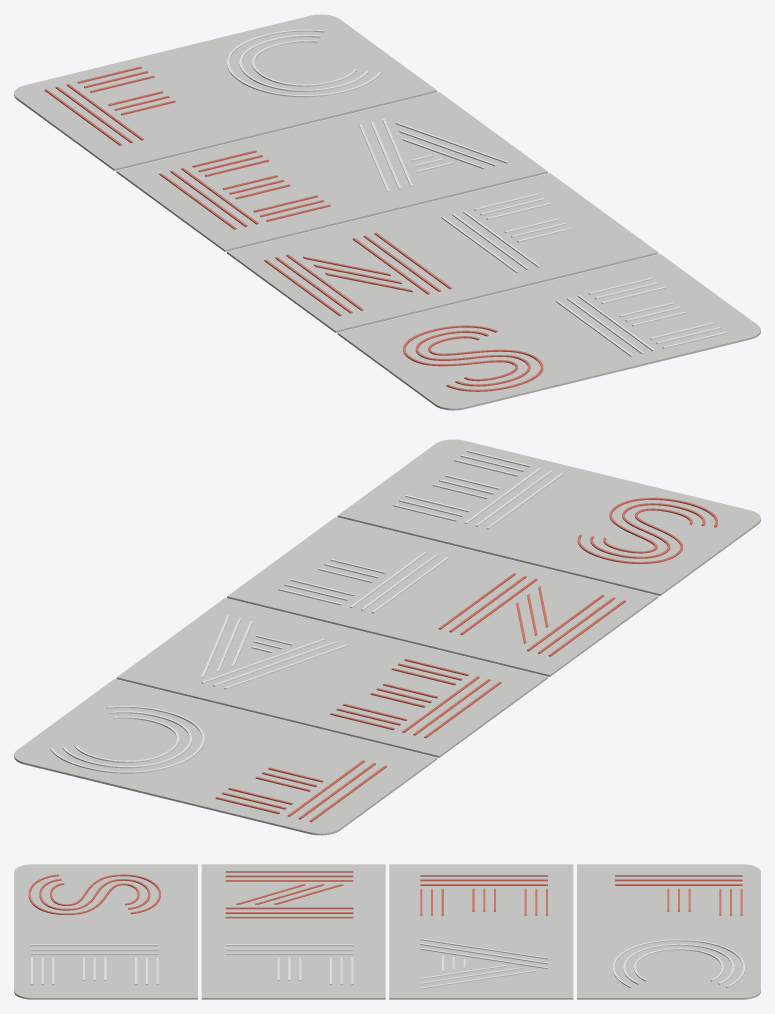
The model's file is sign.glb.
3 views of the same model, one above another, from view 1: azimuth 30°, elevation 25°; view 2: azimuth 150°, elevation 25°; view 3: azimuth 270°, elevation 25° (orthographic). The views are drawn at different scales.
Visible parts, largest first — view 1: Body73, Body1, Body72, Body74, Body84, Body125, Body130, Body122, Body104; view 2: Body73, Body72, Body1, Body74, Body84, Body122, Body125, Body130, Body104; view 3: Body73, Body1, Body72, Body74, Body84, Body125, Body122, Body130, Body104, Body88, Body120, Body139 (+21 smaller).
Part boxes in pixels (<box>): Body73: <box>14,14,437,170</box>; Body1: <box>116,92,547,251</box>; Body72: <box>227,173,658,332</box>; Body74: <box>337,254,760,410</box>; Body84: <box>227,29,381,97</box>; Body125: <box>428,336,543,391</box>; Body130: <box>403,325,517,381</box>; Body122: <box>415,330,530,386</box>; Body104: <box>239,34,369,91</box>; Body73: <box>14,679,437,835</box>; Body72: <box>227,517,658,676</box>; Body1: <box>116,598,547,757</box>; Body74: <box>337,439,760,595</box>; Body84: <box>50,706,204,773</box>; Body122: <box>590,503,705,558</box>; Body125: <box>603,497,717,553</box>; Body130: <box>577,508,692,563</box>; Body104: <box>62,711,192,768</box>; Body73: <box>577,864,760,999</box>; Body1: <box>389,864,573,999</box>; Body72: <box>201,864,385,999</box>; Body74: <box>14,864,197,999</box>; Body84: <box>612,939,745,987</box>; Body125: <box>28,874,139,915</box>; Body122: <box>39,878,150,910</box>; Body130: <box>50,874,160,914</box>; Body104: <box>623,944,734,984</box>; Body88: <box>634,948,723,981</box>; Body120: <box>225,907,353,909</box>; Body139: <box>225,875,353,877</box>.
Bounding box in the file's own units: 0.86 × 0.00776 × 2.03.
